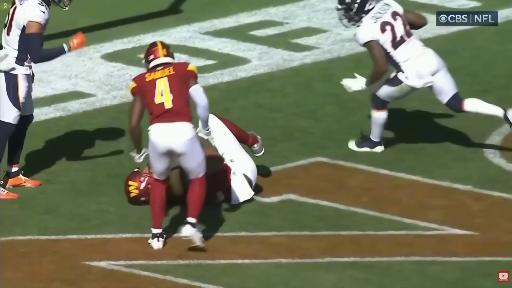Helmet: (337, 0, 375, 27), (125, 168, 151, 205), (144, 42, 174, 69), (51, 0, 72, 9)
Jersey: (356, 0, 429, 73), (130, 63, 197, 124), (2, 0, 49, 74), (207, 156, 231, 202)
Player: (337, 0, 511, 151), (0, 0, 85, 199), (130, 42, 210, 249), (202, 115, 264, 204)
